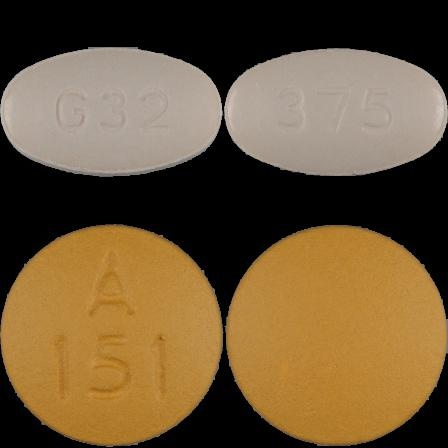53808-0386: (0, 0, 224, 224)
